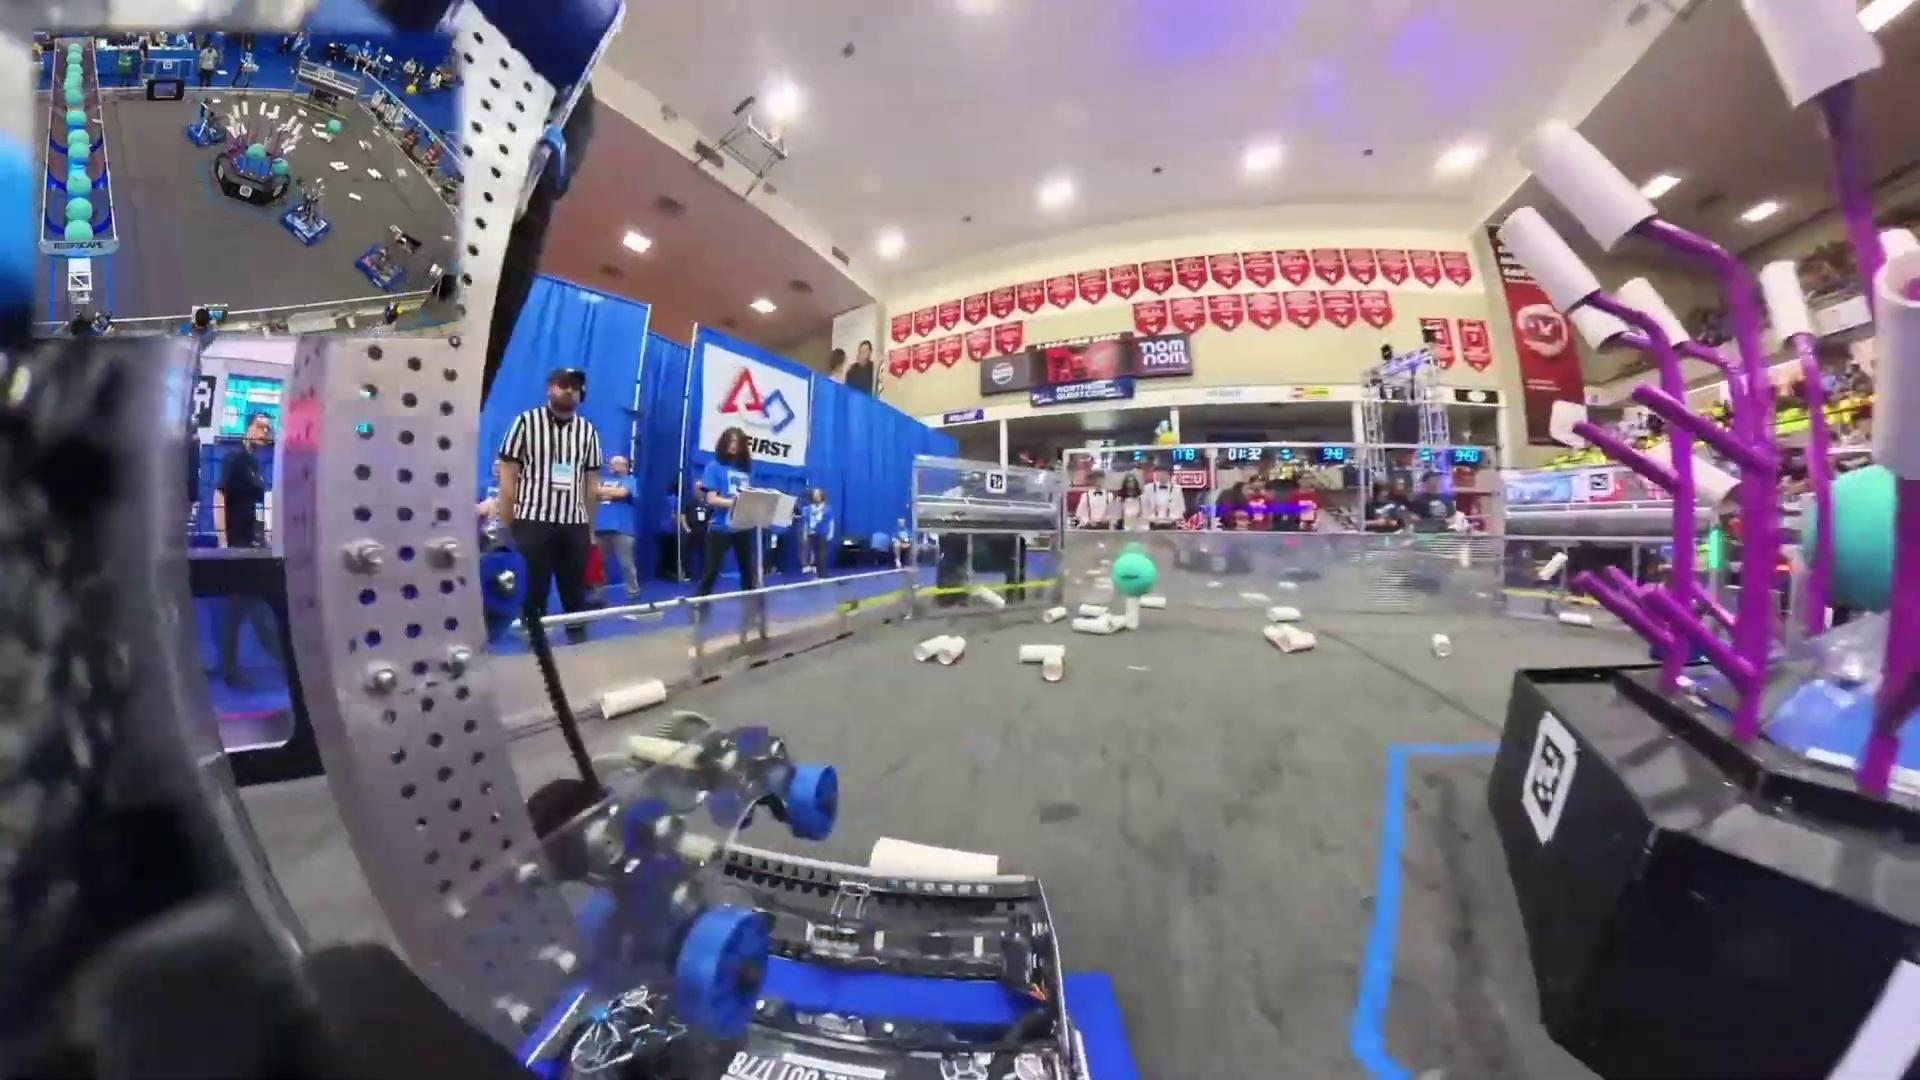robot: (278, 178, 332, 247), (353, 227, 406, 289), (187, 94, 247, 146)
